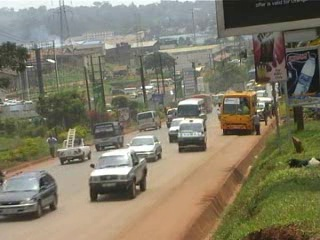Car: (0, 168, 60, 220), (125, 131, 163, 165), (164, 104, 178, 129)
Motorcycle: (0, 164, 9, 192)
